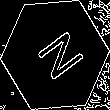N_SW: (26, 24, 84, 86)
